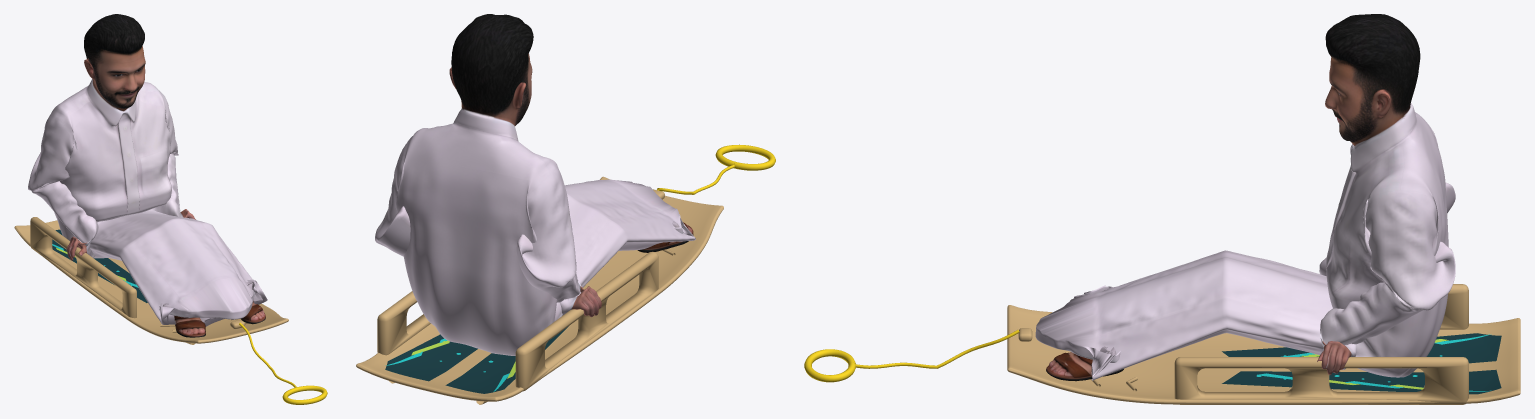
Rendered from Supplied_Thobe_Man_WaistFixed.glb.
3 renders of one model, left to right at view 1: azimuth 30°, elevation 25°; view 2: azimuth 150°, elevation 25°; view 3: azimuth 270°, elevation 25°, orthographic. The views are drawn at different scales.
Parts seen in each view (by area): view 1: Supplied_Thobe_Man_Seated, Sled_Warm sand molded polymer, Sled_Midnight graphic, Pull handle; view 2: Supplied_Thobe_Man_Seated, Sled_Warm sand molded polymer, Sled_Midnight graphic, Pull handle; view 3: Supplied_Thobe_Man_Seated, Sled_Warm sand molded polymer, Sled_Midnight graphic, Pull handle, Tow rope.
Boxes of the visible parts, left/top/right/bottom form: Supplied_Thobe_Man_Seated: left=28, top=14, right=267, bottom=337; Sled_Warm sand molded polymer: left=14, top=217, right=288, bottom=344; Sled_Midnight graphic: left=52, top=229, right=147, bottom=302; Pull handle: left=282, top=385, right=327, bottom=404; Supplied_Thobe_Man_Seated: left=375, top=14, right=695, bottom=355; Sled_Warm sand molded polymer: left=356, top=176, right=723, bottom=404; Sled_Midnight graphic: left=385, top=326, right=568, bottom=393; Pull handle: left=715, top=144, right=775, bottom=170; Supplied_Thobe_Man_Seated: left=1035, top=14, right=1455, bottom=381; Sled_Warm sand molded polymer: left=1007, top=284, right=1520, bottom=404; Sled_Midnight graphic: left=1222, top=333, right=1501, bottom=394; Pull handle: left=804, top=349, right=855, bottom=382; Tow rope: left=855, top=330, right=1019, bottom=368.
Size of the model in its own units: 0.5734 by 0.9355 by 1.68.
6 materials, 1 textured.
